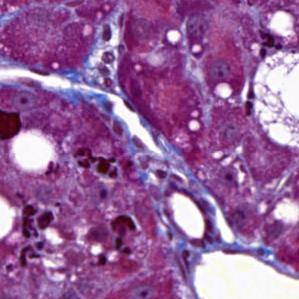ballooning: (249, 48, 295, 153)
